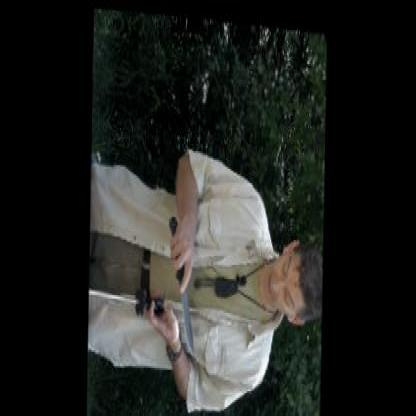knife: (166, 207, 198, 351)
